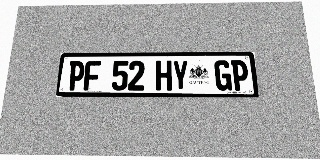2: (128, 61, 145, 90)
5: (112, 61, 129, 90)
F: (83, 61, 101, 90)
G: (214, 60, 232, 91)
H: (156, 60, 172, 91)
P: (231, 60, 249, 91), (67, 61, 85, 90)
Y: (172, 60, 189, 91)
